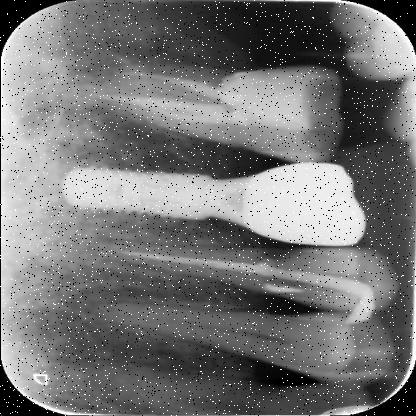ITI: (56, 169, 248, 221)
